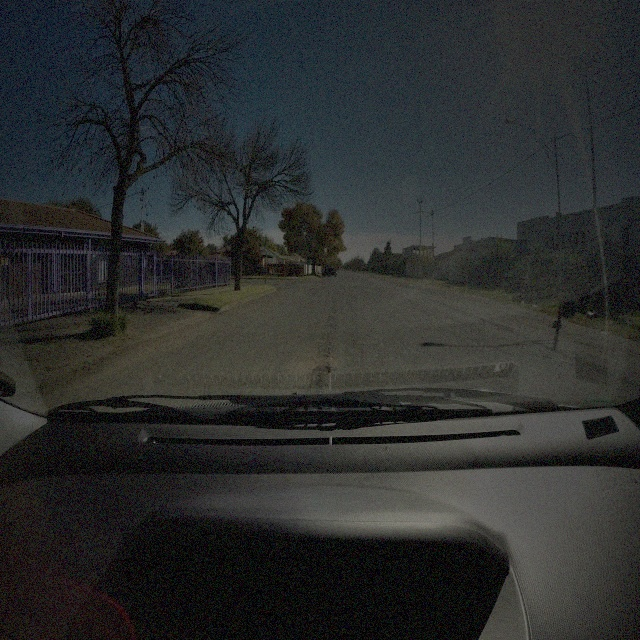pothole: (315, 364, 331, 378)
